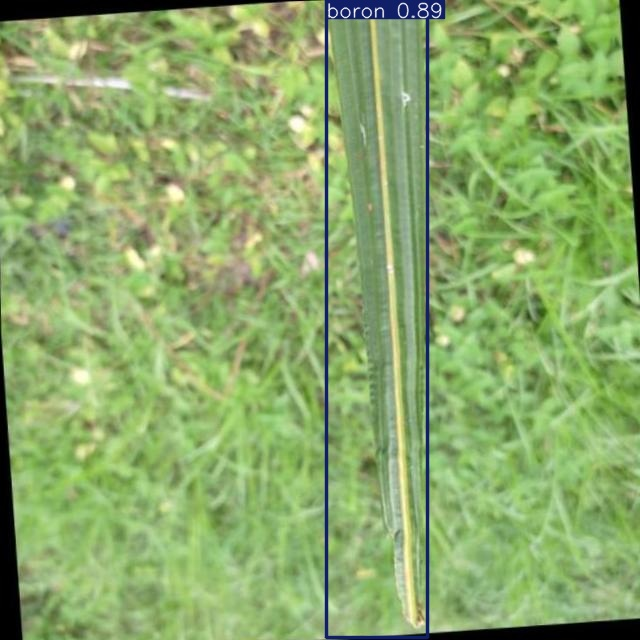nitrogen: (327, 1, 428, 637)
